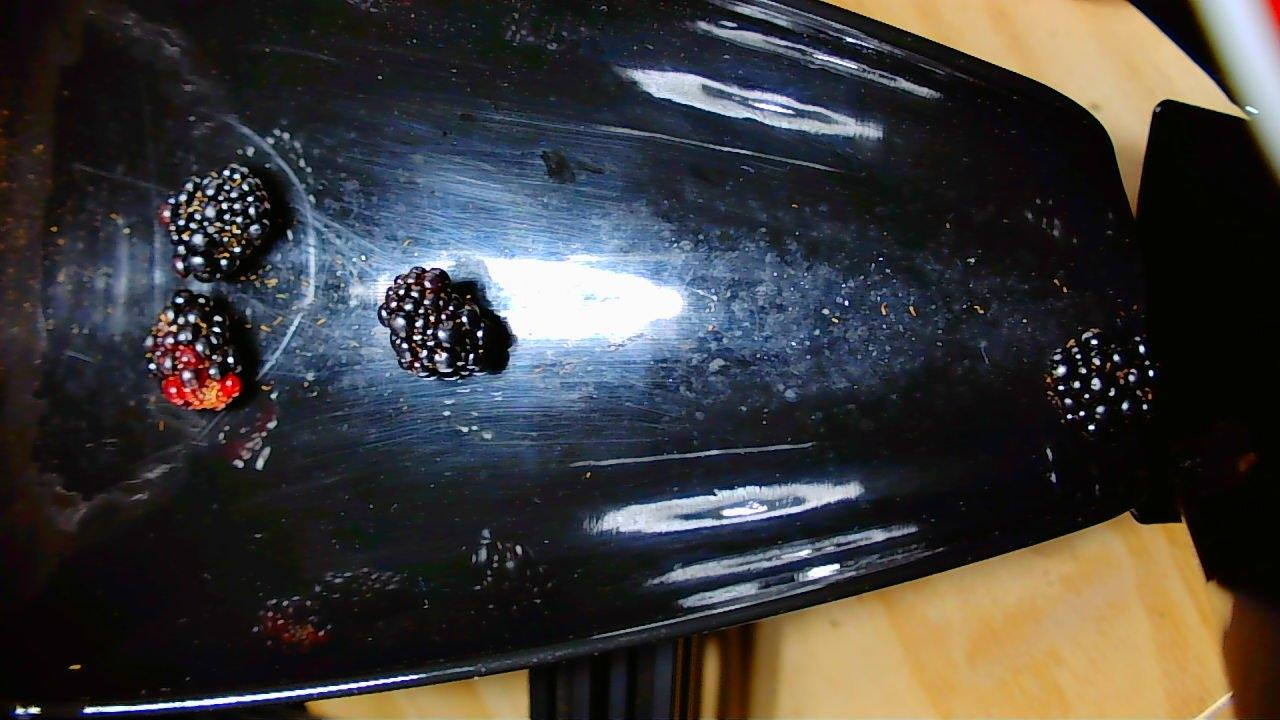berry: (378, 268, 506, 380), (163, 162, 281, 280), (148, 286, 251, 406), (1048, 331, 1154, 435)
